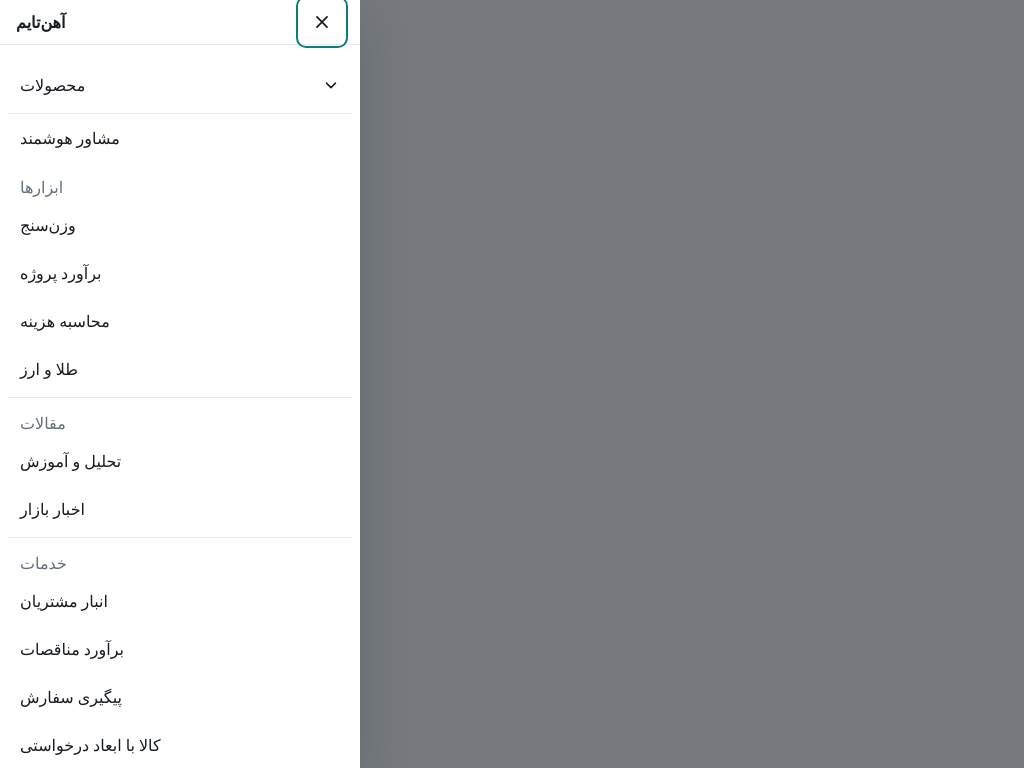
it: MobileDrawer · products › keeps one category open at a time, so the drawer never becomes ~80 rows
Click the button "محصولات" at [53, 85], box [8,61,352,109]
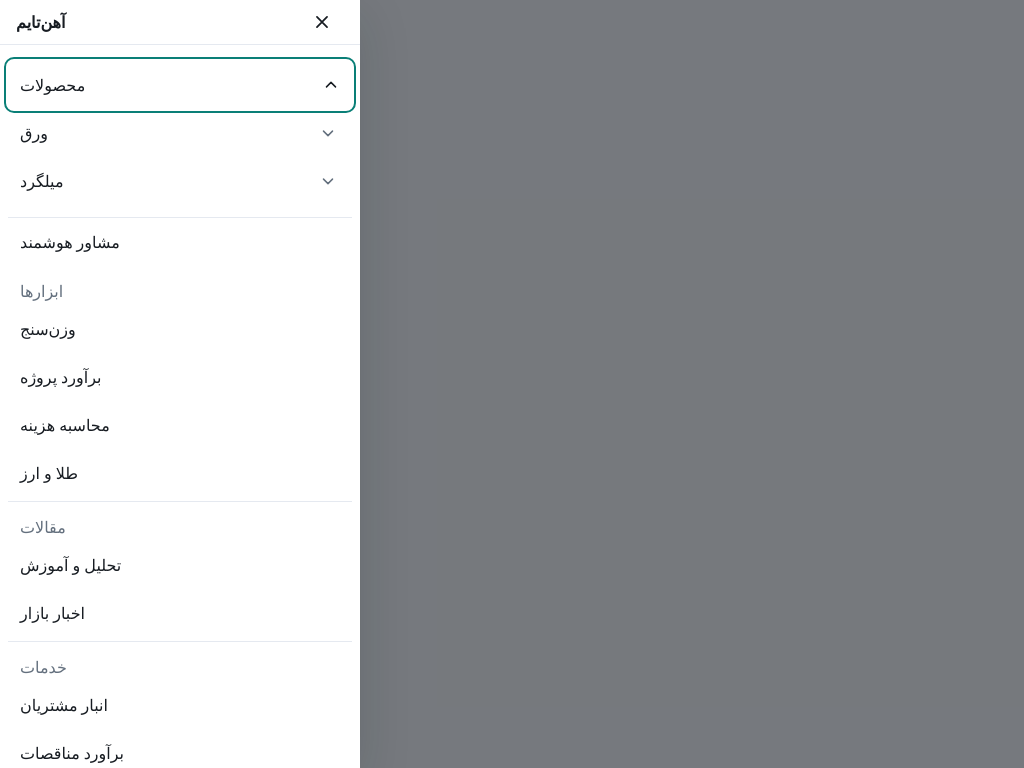
Click the button named "زیردسته‌های ورق" at [328, 133], box [304,109,352,157]
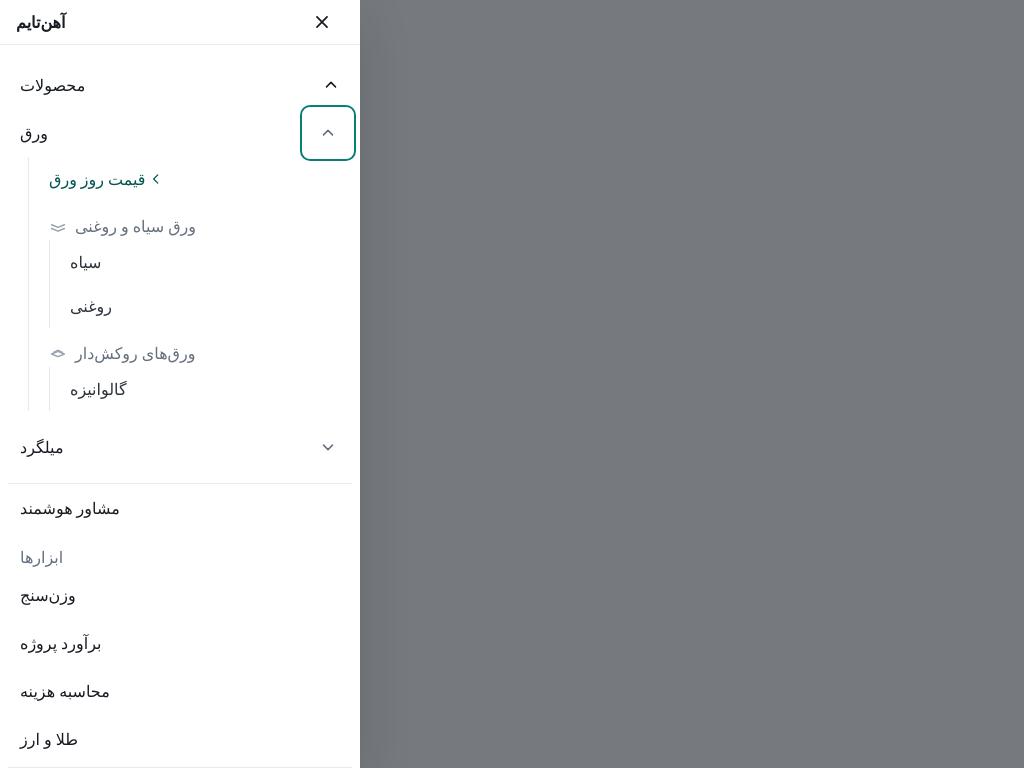
Check: the list with id "mobile-drawer-cat-sheet" is shown, box [28,157,352,411]
Click the button named "زیردسته‌های میلگرد" at [328, 447], box [304,423,352,471]
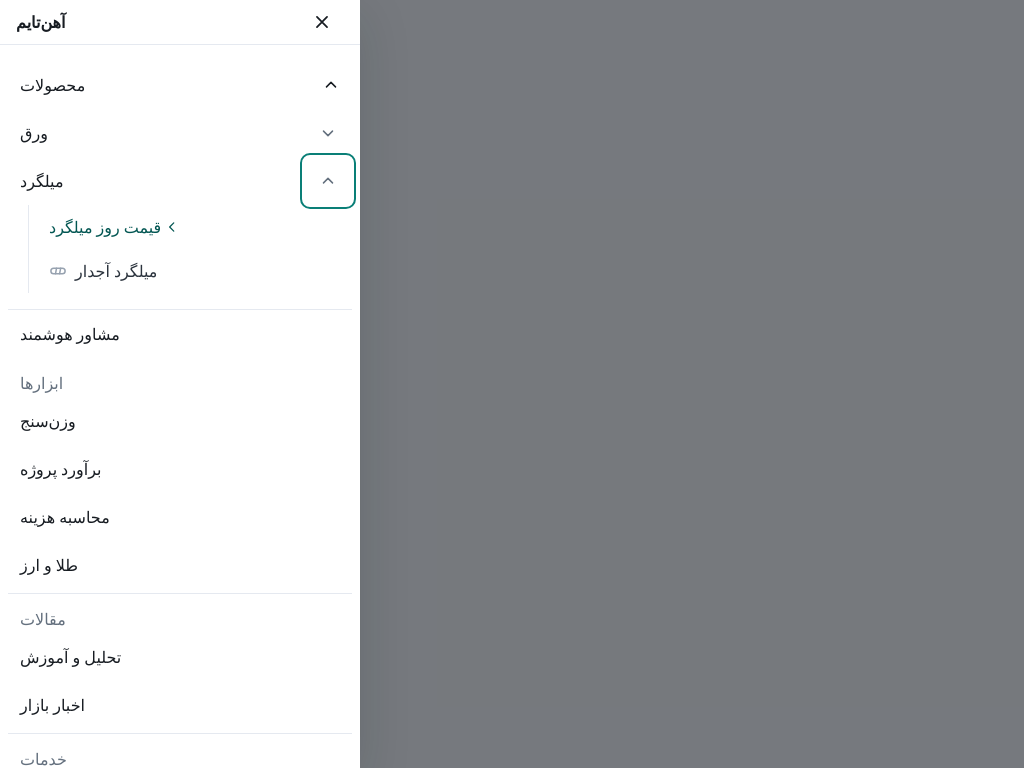
Check: the list with id "mobile-drawer-cat-sheet" is gone
Check: the list with id "mobile-drawer-cat-rebar" is shown, box [28,205,352,293]
